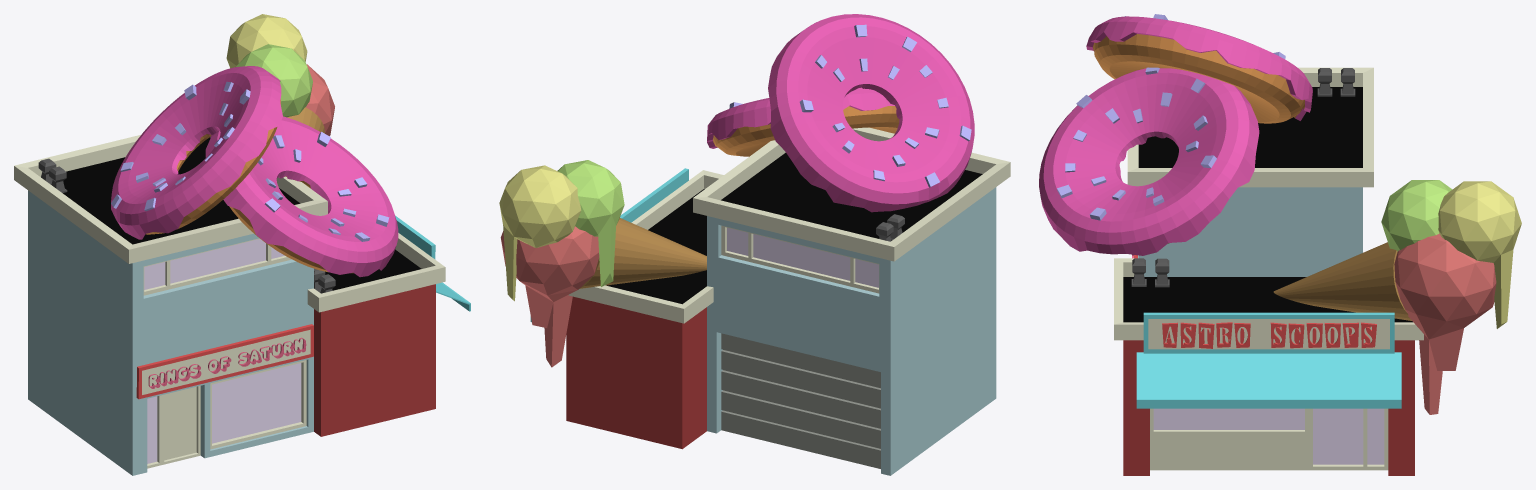
The model's file is topleft_block.fbx.
3 views of the same model, side by side, from view 1: azimuth 30°, elevation 25°; view 2: azimuth 150°, elevation 25°; view 3: azimuth 270°, elevation 25° (orthographic). The views are drawn at different scales.
Parts seen in each view (by area): view 1: block 3; view 2: block 3; view 3: block 3.
Boxes of the visible parts, box(x1,y1,x2,y2) form: block 3: box(14, 14, 470, 475); block 3: box(499, 14, 1010, 475); block 3: box(1039, 14, 1521, 475).
Size of the model in its own units: 3918 by 3776 by 4408.
